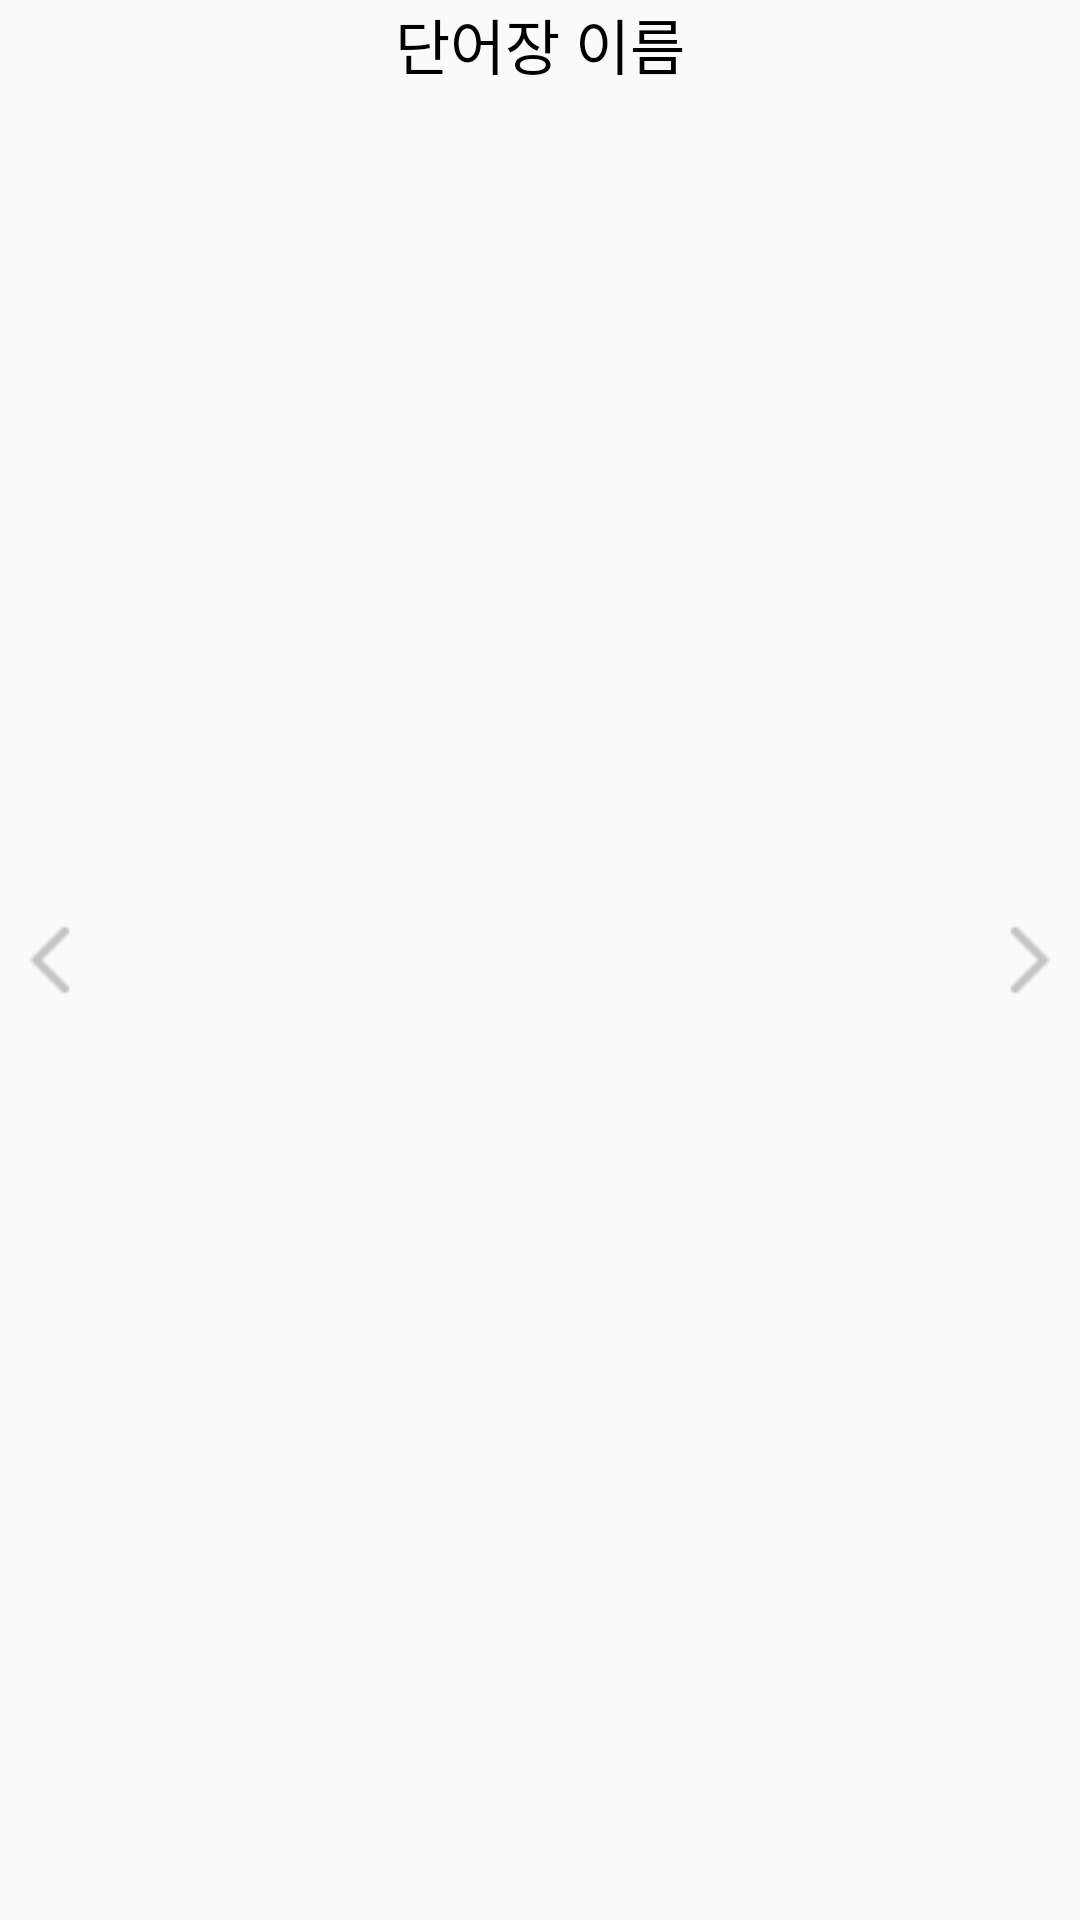

Named icons in this screenshot (1080x1920) and their centers, (x=x, y=y):
left: (x=50, y=960)
right: (x=1029, y=960)
